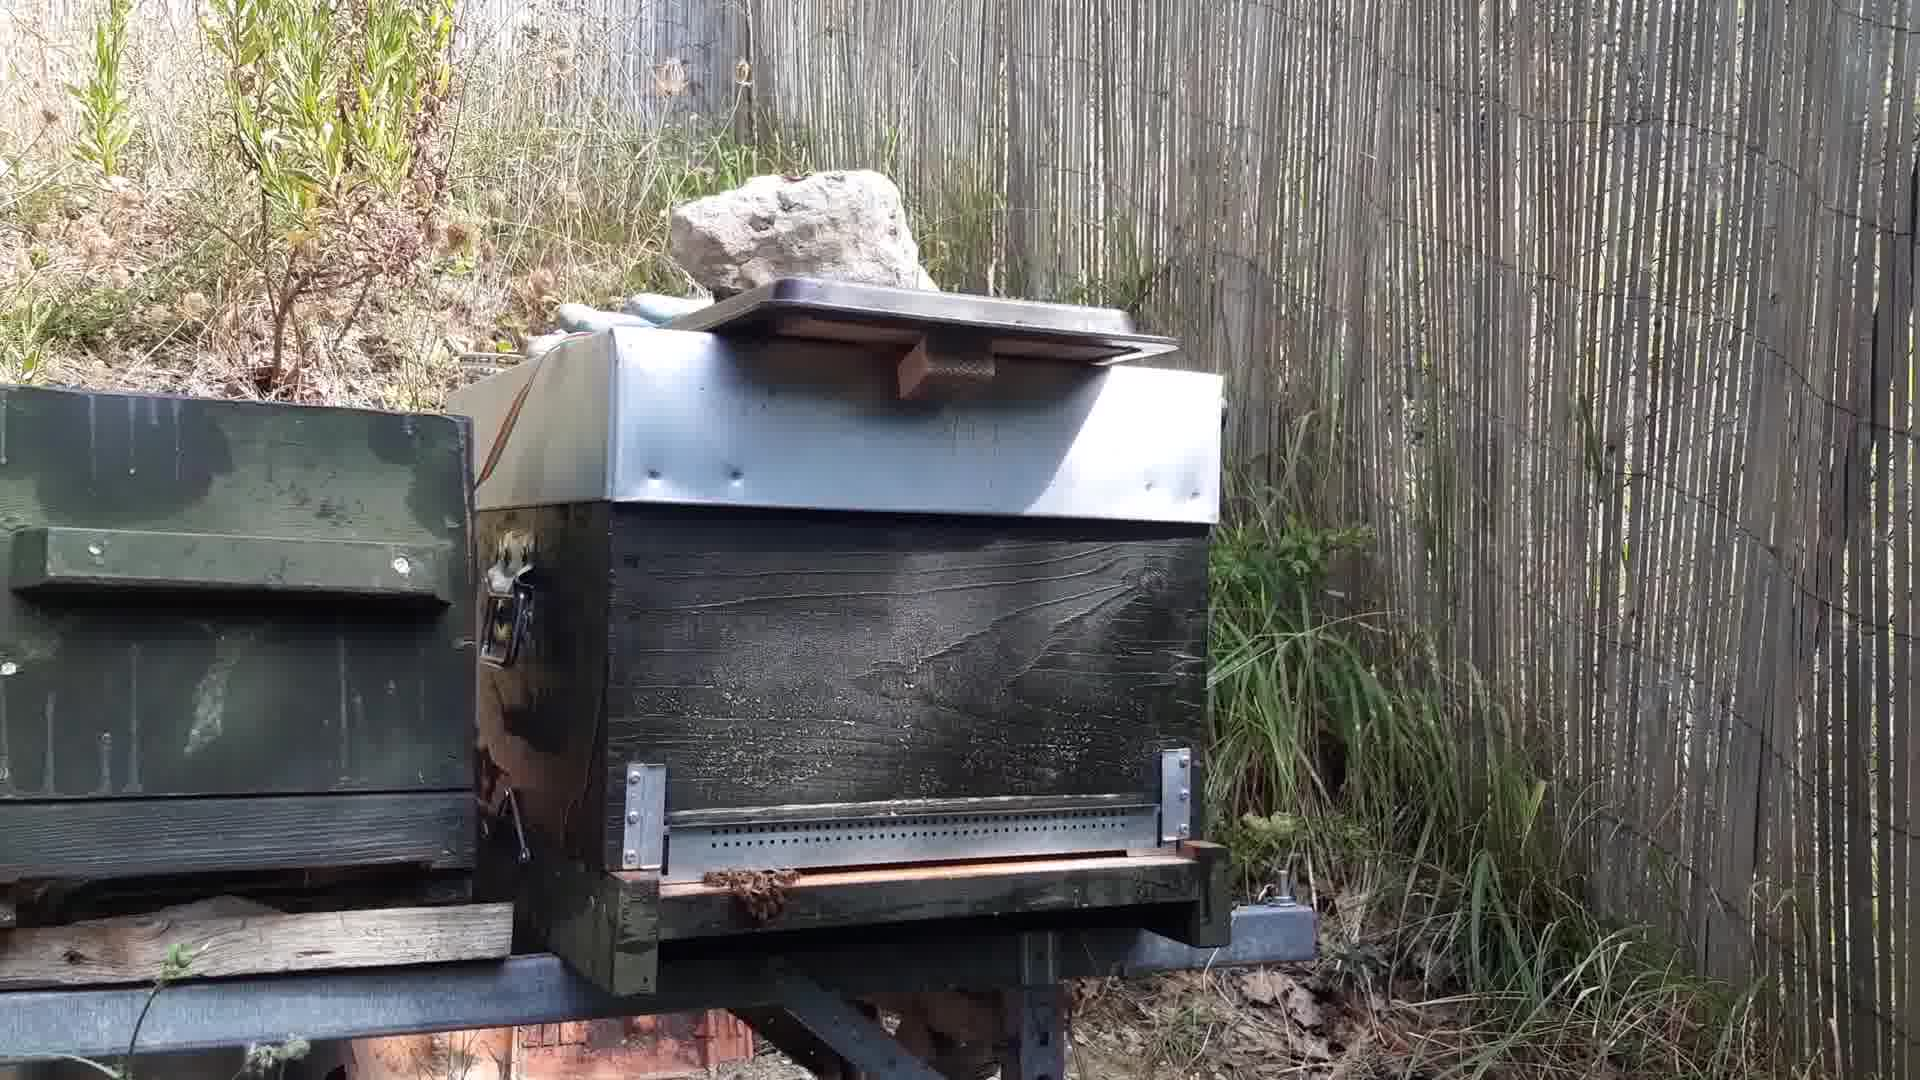bee: (731, 861, 798, 922), (705, 866, 729, 889)
